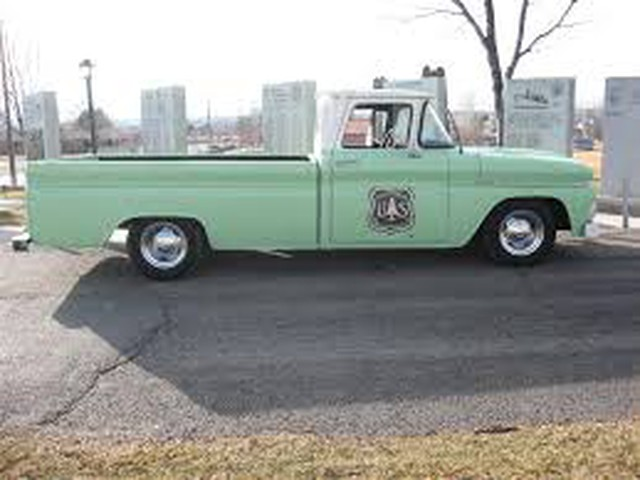Vehicle: (26, 81, 602, 275)
